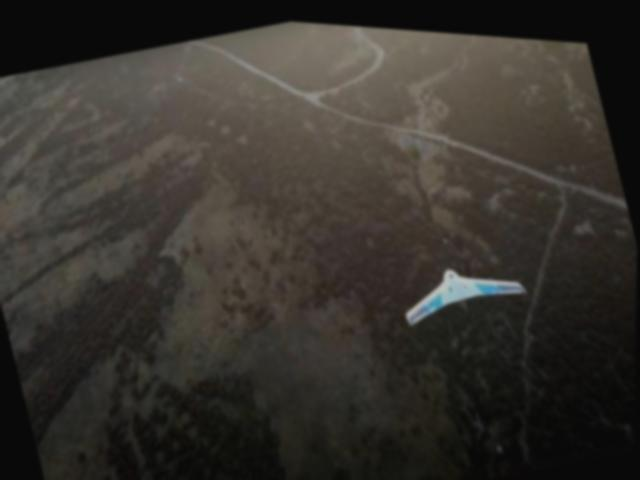iha: (390, 233, 532, 328)
